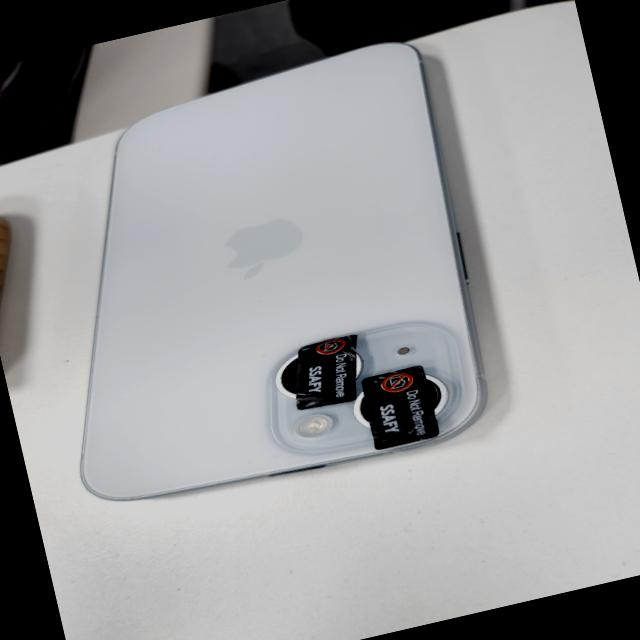phone: (0, 28, 512, 523)
sticker: (279, 328, 372, 413), (358, 362, 442, 452)
